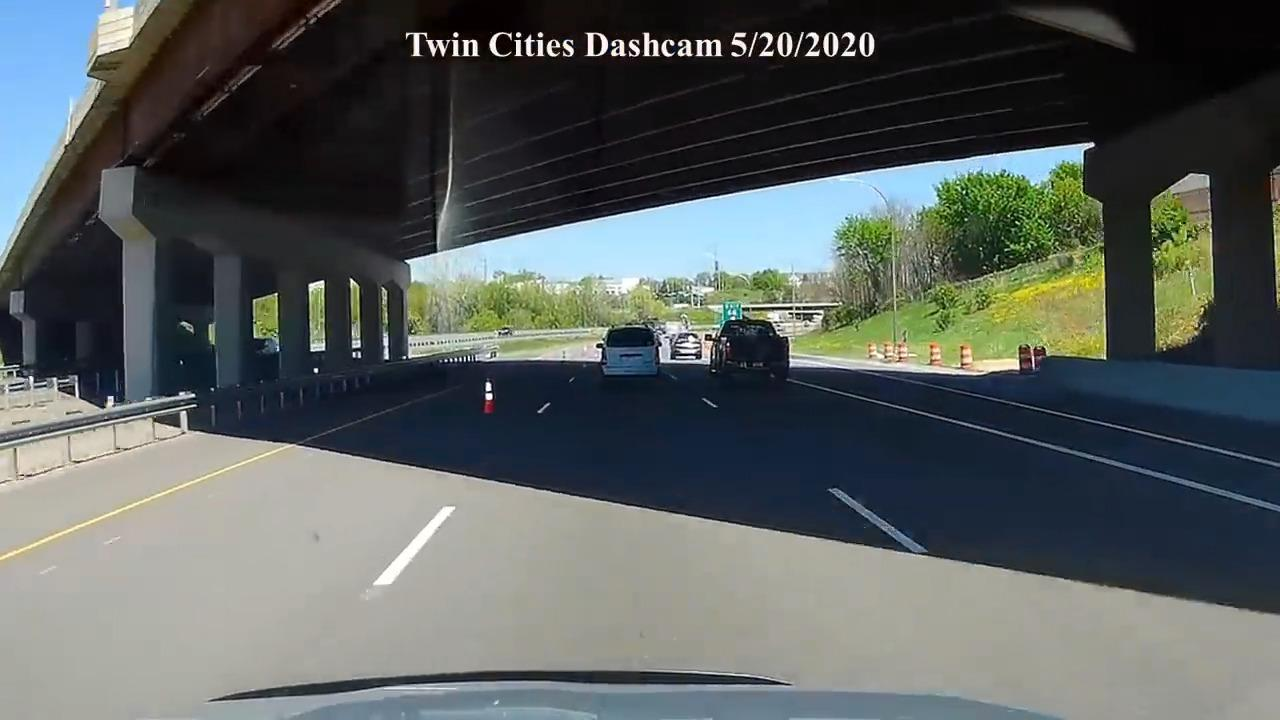car: (707, 319, 790, 382), (596, 324, 662, 379), (670, 332, 702, 360), (496, 327, 513, 338)
traffic cone: (483, 379, 495, 414)
